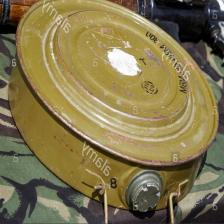TM-46: (13, 3, 216, 200)
